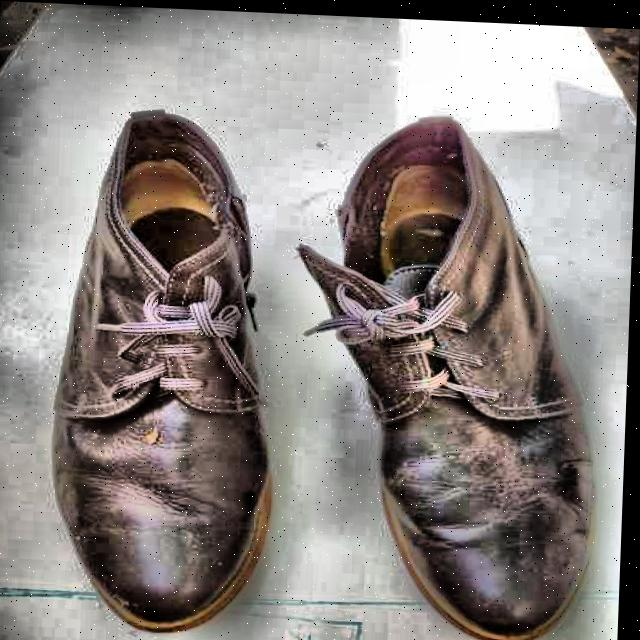shoes: (0, 39, 639, 640)
